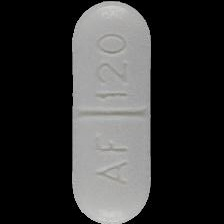60429-391: (0, 0, 224, 224)
